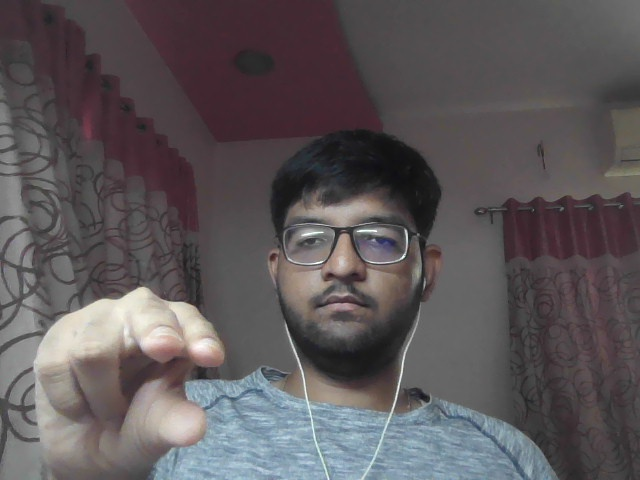ના: (28, 280, 231, 476)
